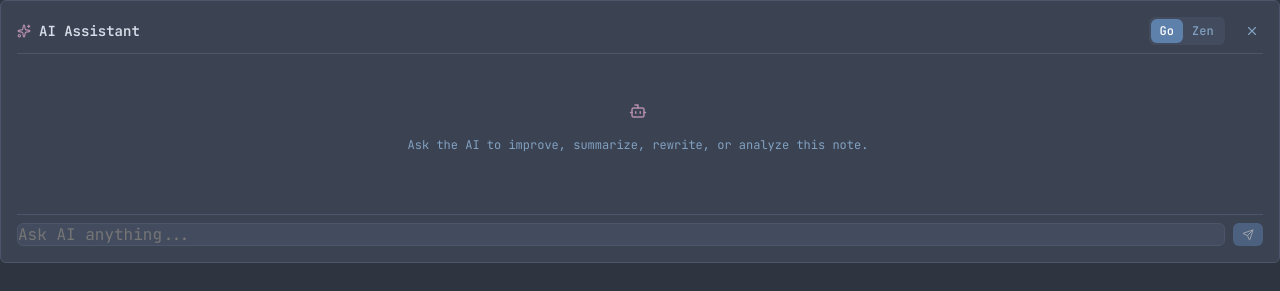
Test: AIAssistantPanel › assistant message appears after successful API response
The image size is (1280, 291).
In the field with placeholder "Ask AI anything...": [621, 235] box [17,223,1225,246], type "Please analyze this"
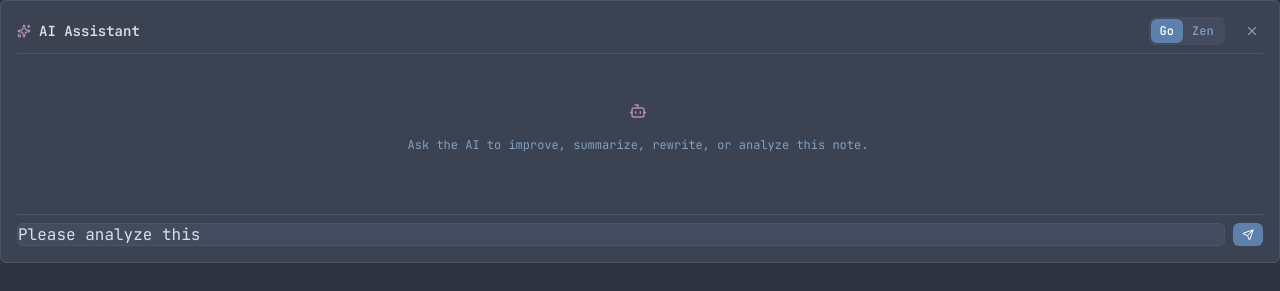
Click the 4th button: [1248, 235] box [1233,223,1263,246]
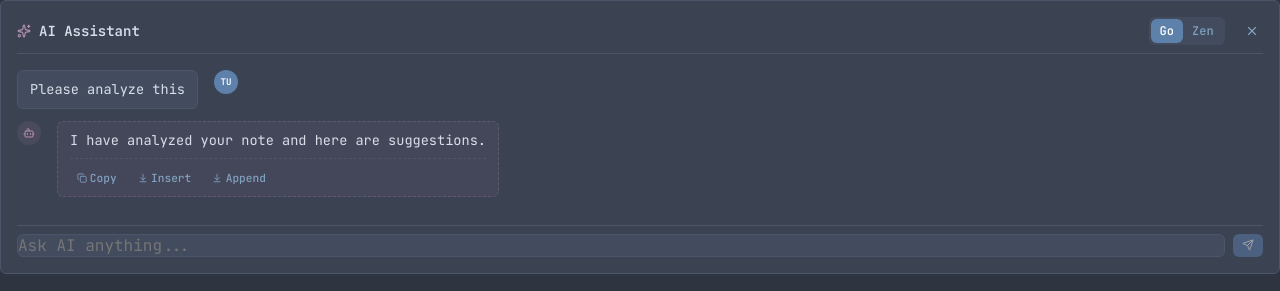
Expected: the text "I have analyzed your note and here are suggestions." is shown, [70,131,486,149]
Expected: the button "Copy" is shown, [70,167,123,188]
Expected: the button "Insert" is shown, [131,167,198,188]
